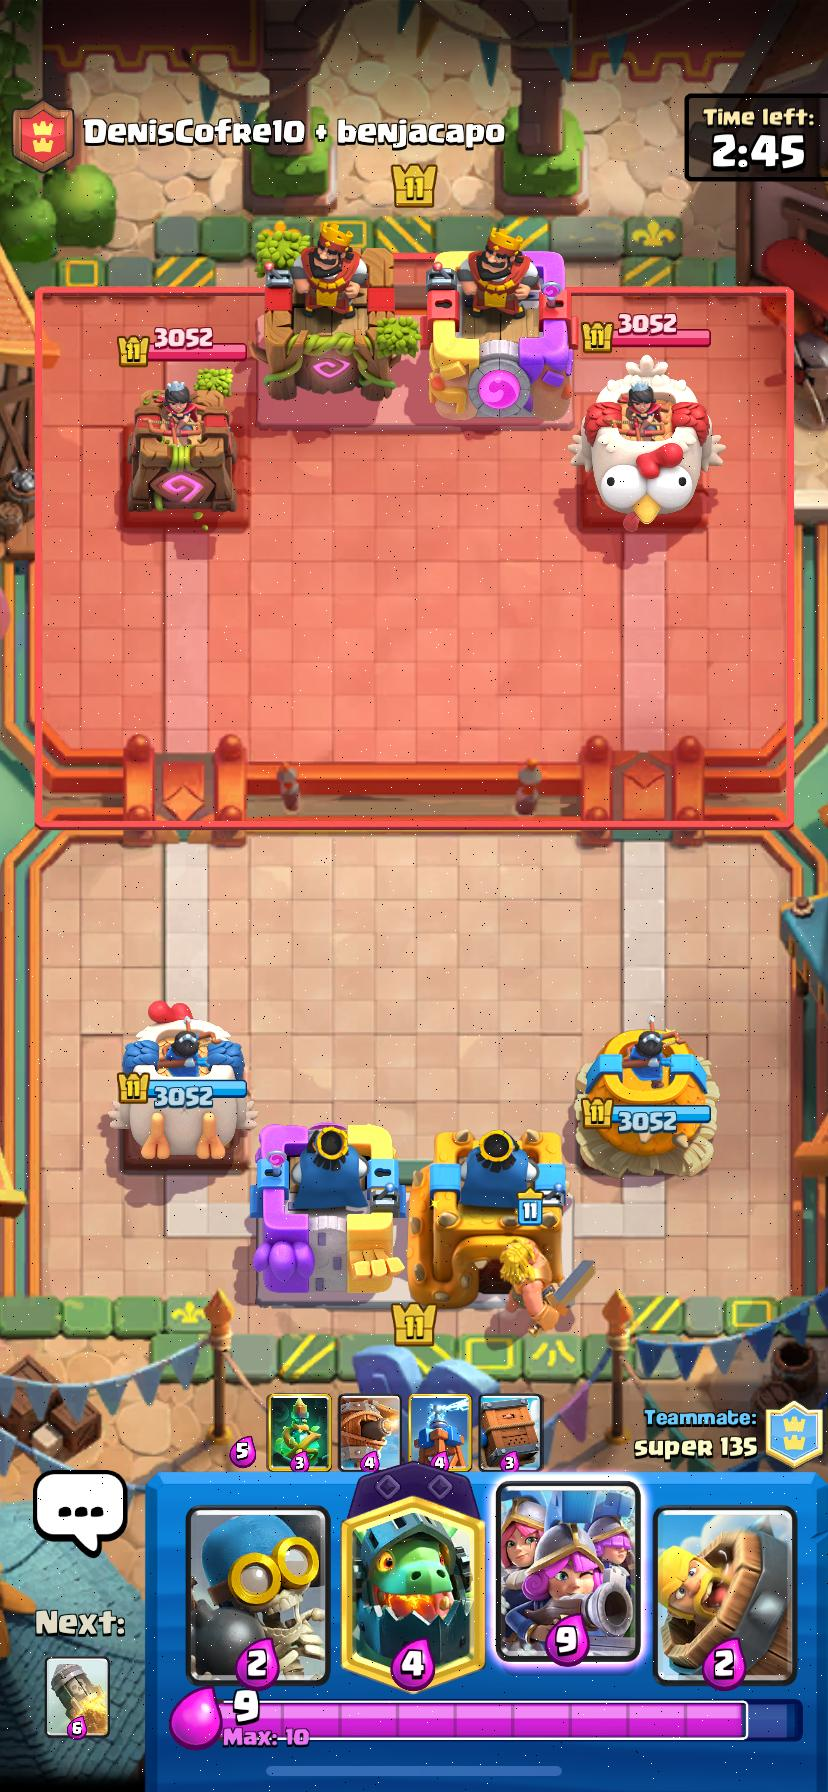EKingTower: (264, 223, 419, 402), (428, 248, 572, 419)
EnemyPrincessTower: (573, 355, 722, 528), (127, 381, 234, 513)
ORoyalKnight: (500, 1237, 558, 1333)
OwnKingTower: (408, 1129, 565, 1305), (250, 1123, 403, 1304)
OwnPrincessTower: (109, 1001, 255, 1160), (576, 1018, 716, 1175)
